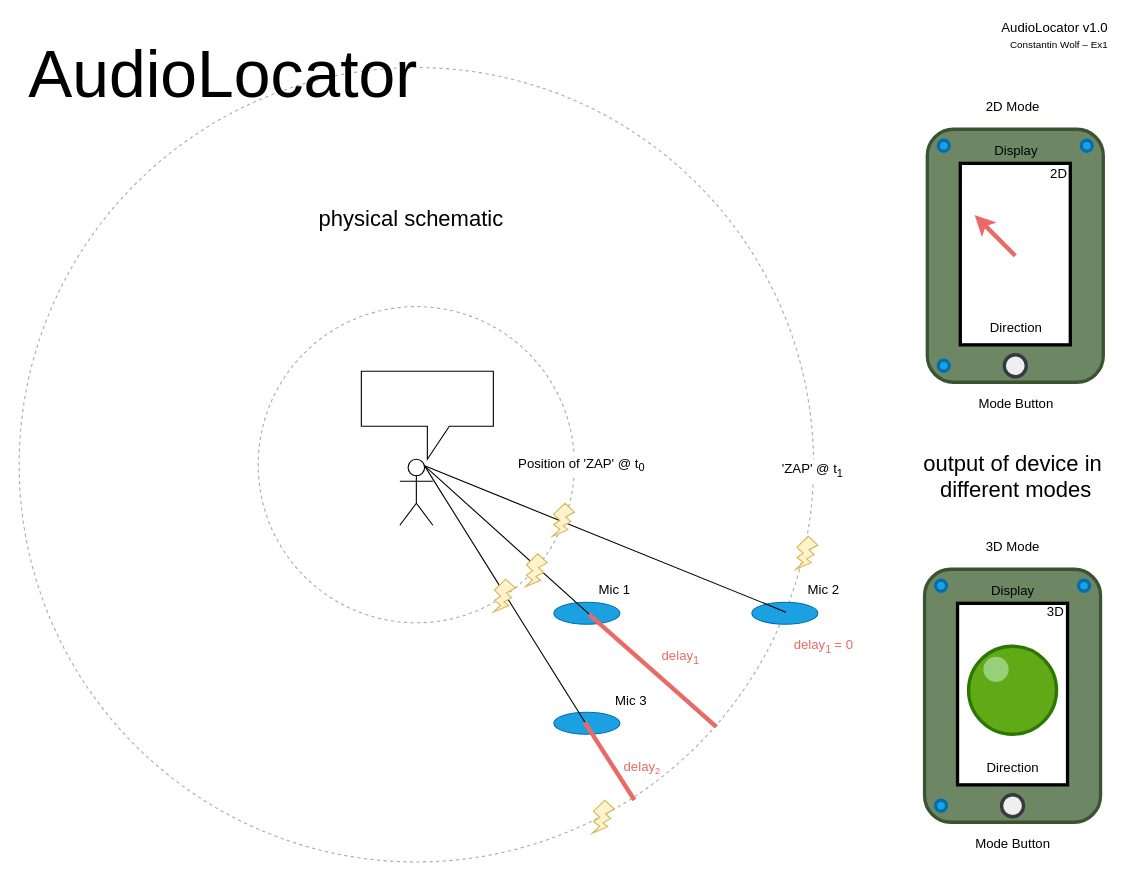
Image size: 1131x881. Some labels were removed from this diagram. The centre of each missing label's shape, as x and y in pixels:
"Actor" goes at point 416,491.
"ZAP!" goes at point 426,414.
